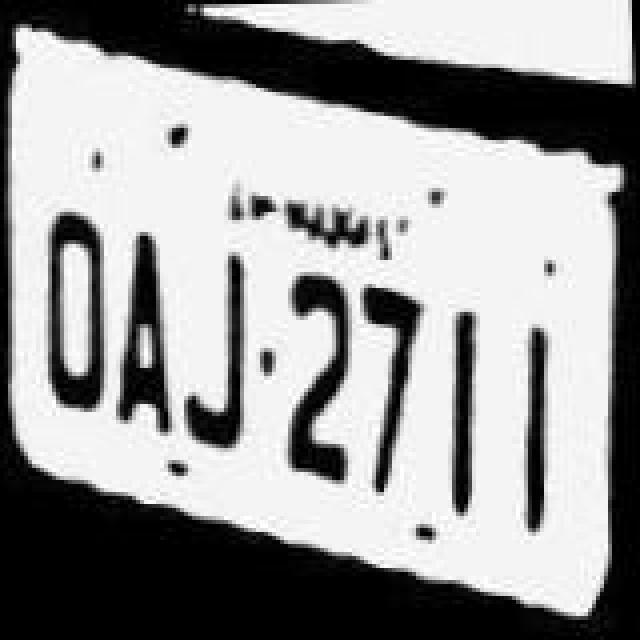1: (508, 288, 568, 552), (438, 274, 498, 522)
2: (280, 256, 360, 512)
7: (354, 270, 430, 526)
A: (104, 190, 180, 446)
J: (180, 236, 264, 460)
O: (28, 198, 112, 458)
